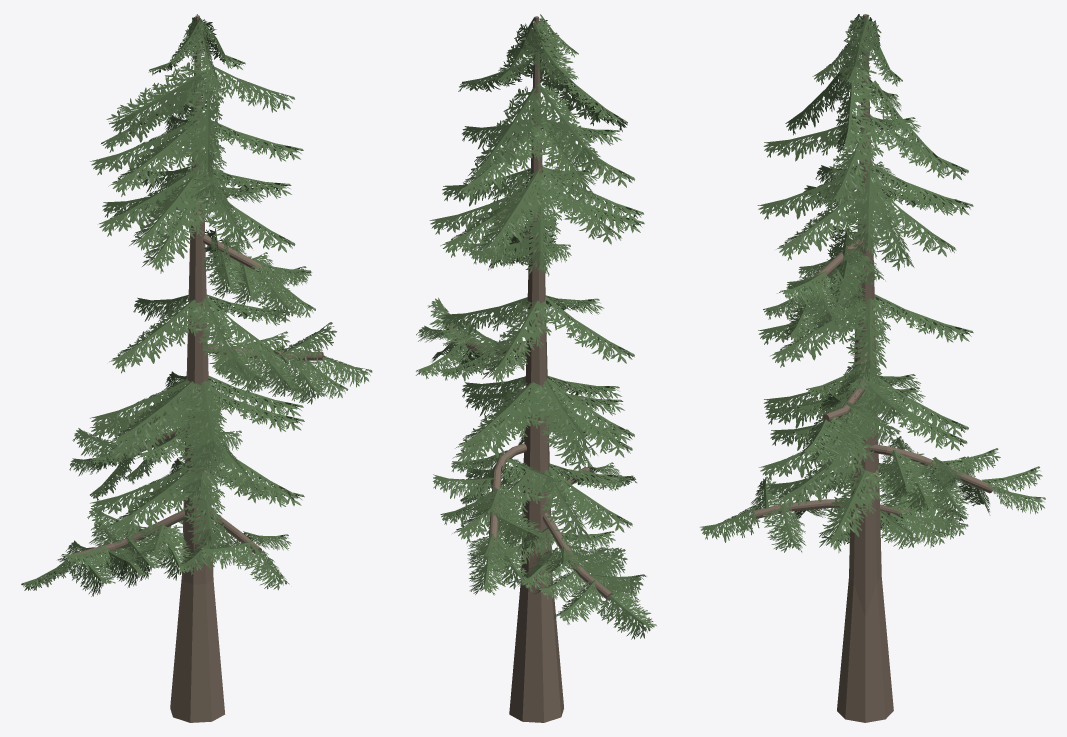
Rendered from PineTree2.fbx.
3 renders of one model, left to right at view 1: azimuth 30°, elevation 25°; view 2: azimuth 150°, elevation 25°; view 3: azimuth 270°, elevation 25°, orthographic.
Parts seen in each view (by area): view 1: Pineleaves.096, Plane; view 2: Pineleaves.096, Plane; view 3: Pineleaves.096, Plane.
Part boxes in pixels (bbox=[...]): Pineleaves.096: bbox=[21, 14, 372, 722]; Plane: bbox=[70, 234, 323, 562]; Pineleaves.096: bbox=[416, 14, 656, 722]; Plane: bbox=[447, 231, 613, 600]; Pineleaves.096: bbox=[700, 14, 1045, 722]; Plane: bbox=[754, 237, 993, 518].
Size of the model in its own units: 509 by 1116 by 523.
